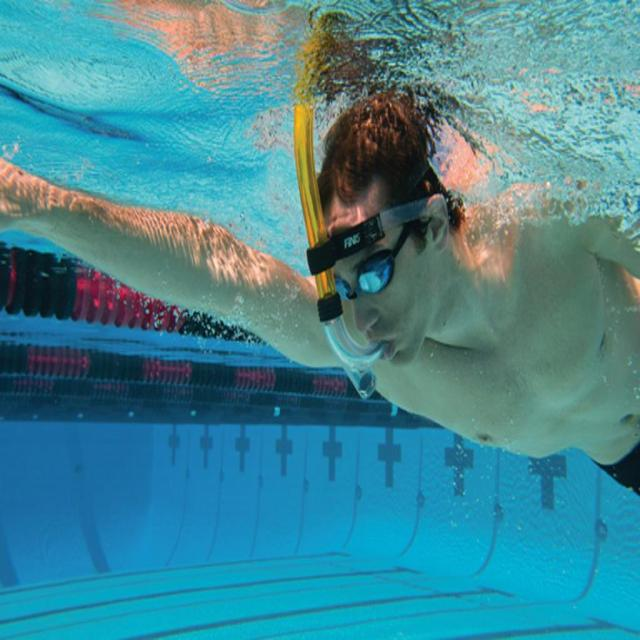nomask: (328, 194, 424, 362)
